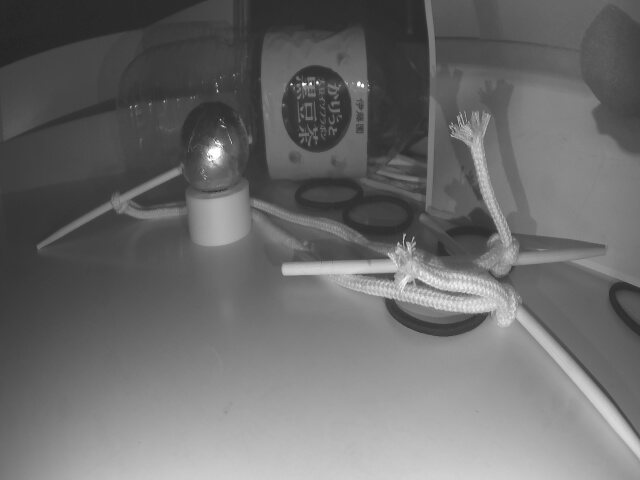Live: (177, 104, 251, 190)
Point: (1, 104, 150, 186)
